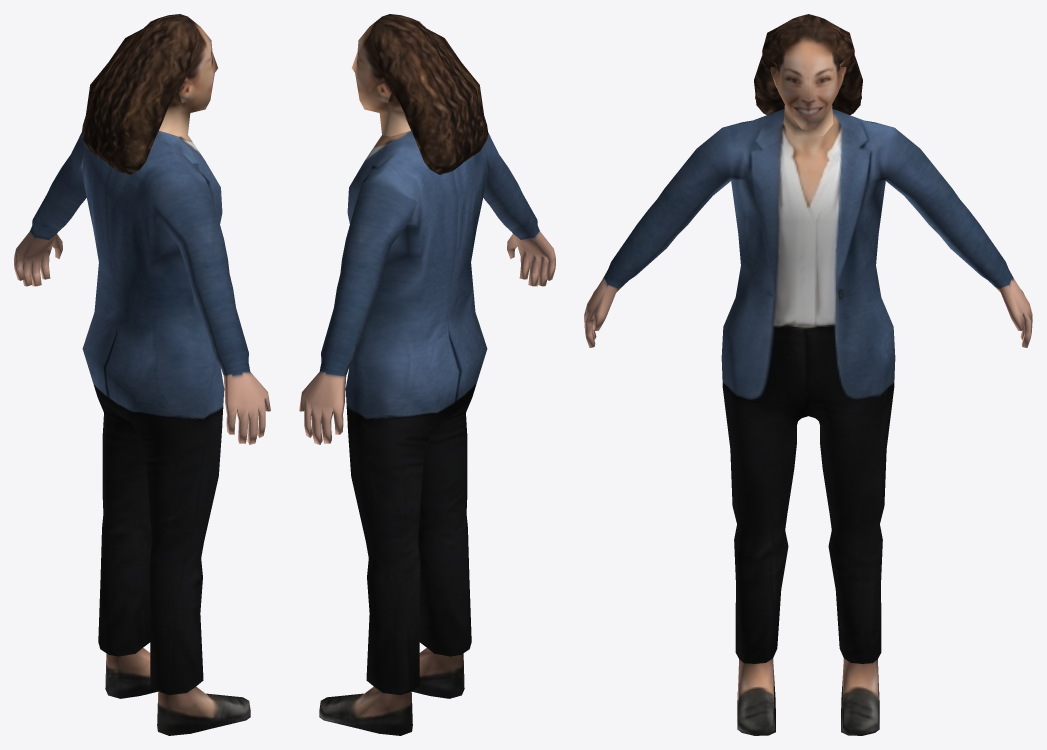
Rendered from Character_37_Female.fbx.
The picture shows the model from 3 angles, left to right: view 1: azimuth 30°, elevation 25°; view 2: azimuth 150°, elevation 25°; view 3: azimuth 270°, elevation 25°; orthographic projection.
Visible parts, largest first — view 1: Character_37_Female; view 2: Character_37_Female; view 3: Character_37_Female.
Boxes of the visible parts, <box> form: Character_37_Female: <box>14,14,270,735</box>; Character_37_Female: <box>299,14,555,735</box>; Character_37_Female: <box>584,14,1032,735</box>.
Bounding box in the file's own units: 0.3147 × 1.63 × 0.9586.
